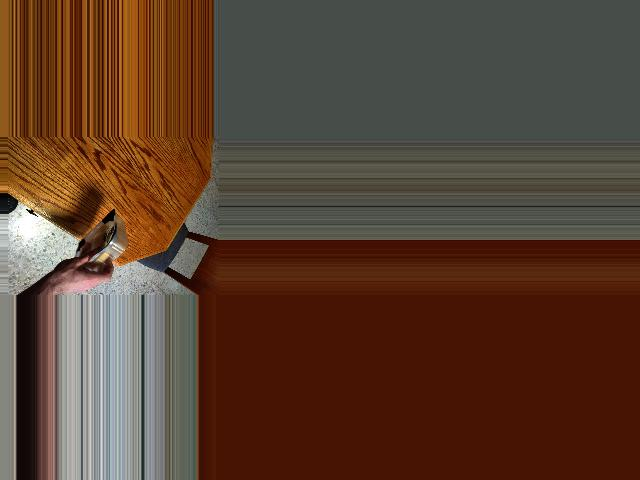cheese: (55, 213, 139, 274)
